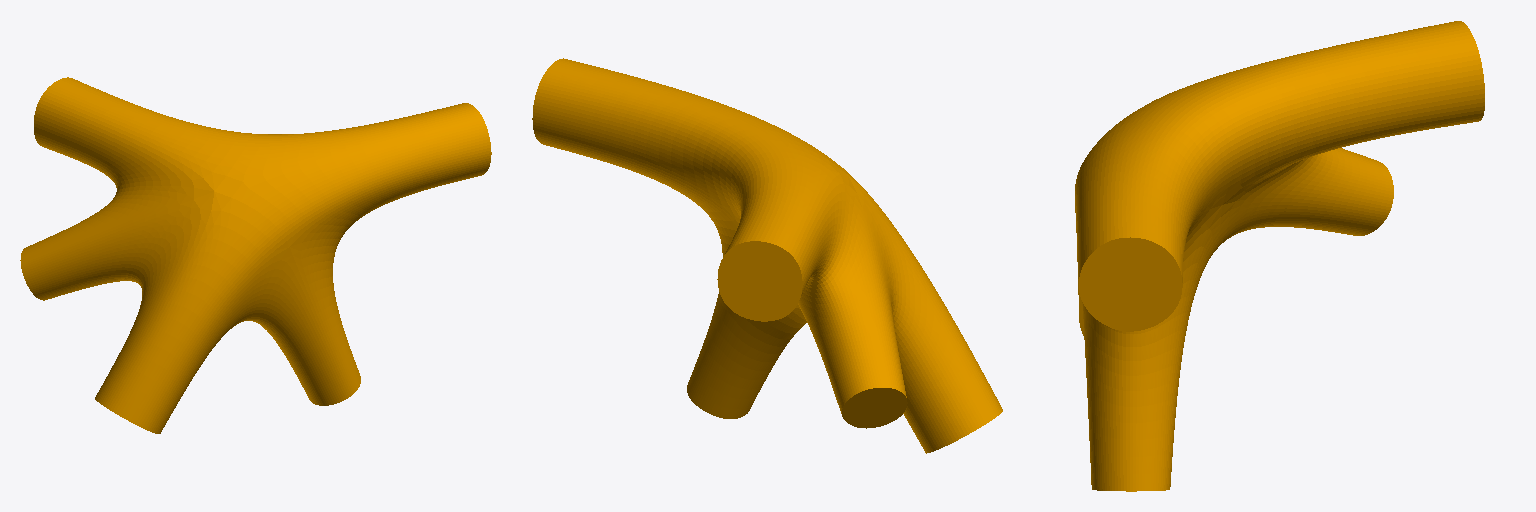
URDF robot description (object):
<robot name="object">
  <link name="object">
    <visual>
      <origin xyz="0 0 0"/>
      <geometry>
        <mesh filename="visual.obj" scale="1 1 1"/>
      </geometry>
    </visual>
    <collision>
      <origin xyz="0 0 0"/>
      <geometry>
        <mesh filename="visual.obj" scale="1 1 1"/>
      </geometry>
    </collision>
    <inertial>
      <mass value="0.05"/>
      <inertia ixx="5.916296748648272e-05" iyy="9.11059325031136e-05" izz="8.945040468698678e-05" ixy="1.867650035970043e-05" ixz="-1.3778967467922587e-05" iyz="-9.823661102198486e-06"/>
    </inertial>
  </link>
</robot>

--- Render facts (derived) ---
The picture shows the robot from 3 angles, left to right: view 1: azimuth 30°, elevation 25°; view 2: azimuth 150°, elevation 25°; view 3: azimuth 270°, elevation 25°; orthographic projection.
Model object with 1 links and 0 joints (none), rooted at object, posed all joints at 0.
Links seen in each view (by area): view 1: object; view 2: object; view 3: object.
Link boxes in pixels (x1=…): object: x1=20, y1=77, x2=491, y2=433; object: x1=532, y1=58, x2=1002, y2=453; object: x1=1075, y1=21, x2=1484, y2=491.
Bounding box of the posed robot: 0.1612 × 0.1104 × 0.1103 m (x, y, z).
1 mesh visuals loaded from 1 distinct referenced files (1 OBJ).
